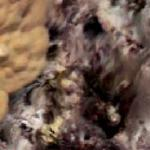alive: (12, 11, 137, 136)
